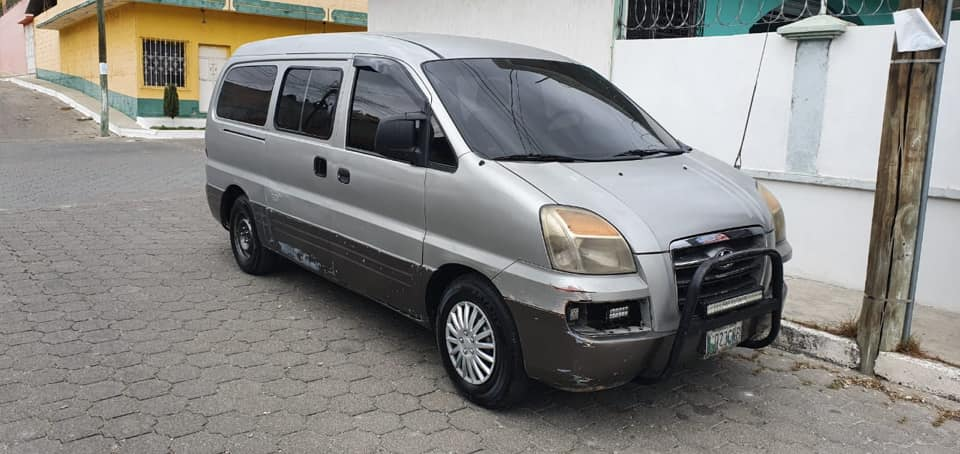bus: (202, 28, 792, 408)
